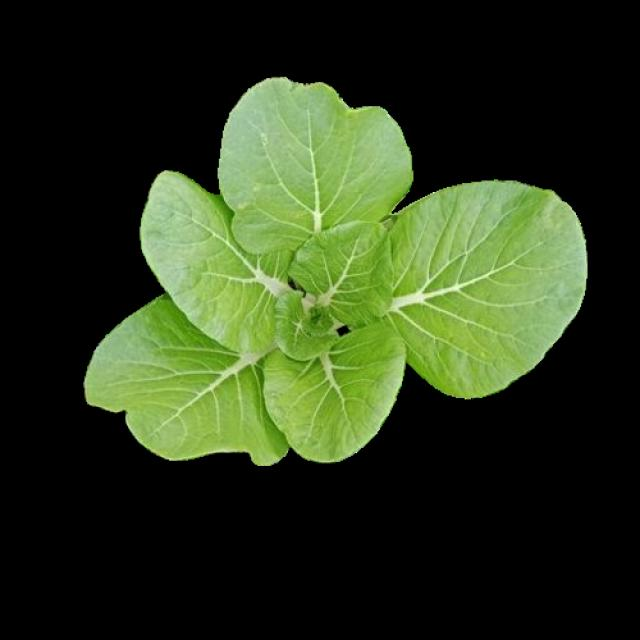mature: (87, 80, 586, 464)
unhealthy: (218, 80, 412, 260)
